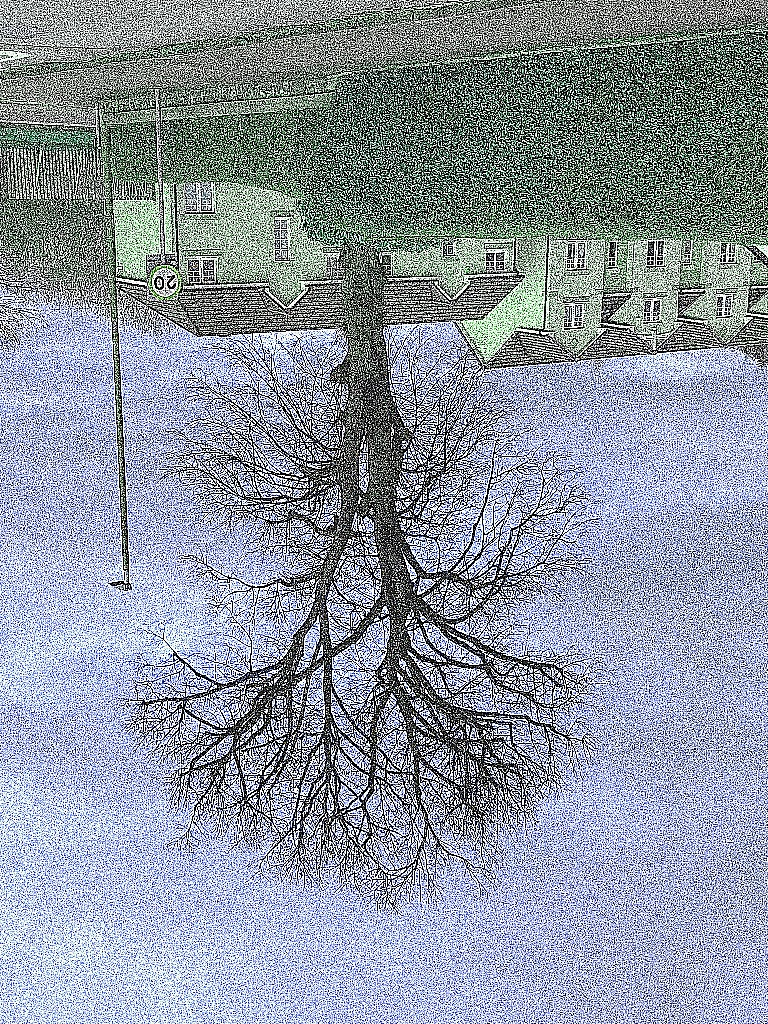Tree: (108, 242, 621, 926)
